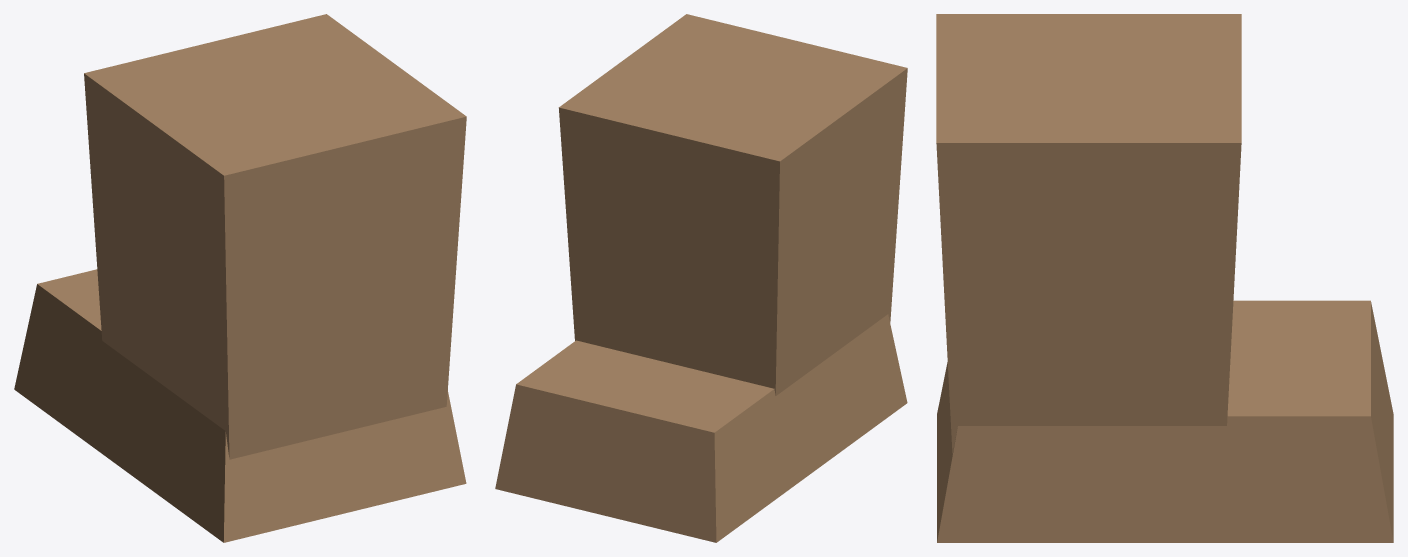
The model's file is animal_prairiedog_leg.obj.
The picture shows the model from 3 angles, left to right: view 1: azimuth 30°, elevation 25°; view 2: azimuth 150°, elevation 25°; view 3: azimuth 270°, elevation 25°; orthographic projection. The views are drawn at different scales.
Visible parts, largest first — view 1: animal_prairiedog_leg; view 2: animal_prairiedog_leg; view 3: animal_prairiedog_leg.
Part boxes in pixels (x1=…): animal_prairiedog_leg: x1=14, y1=14, x2=466, y2=542; animal_prairiedog_leg: x1=495, y1=14, x2=907, y2=542; animal_prairiedog_leg: x1=936, y1=14, x2=1393, y2=542.
Size of the model in its own units: 0.0484 by 0.07 by 0.0725.
